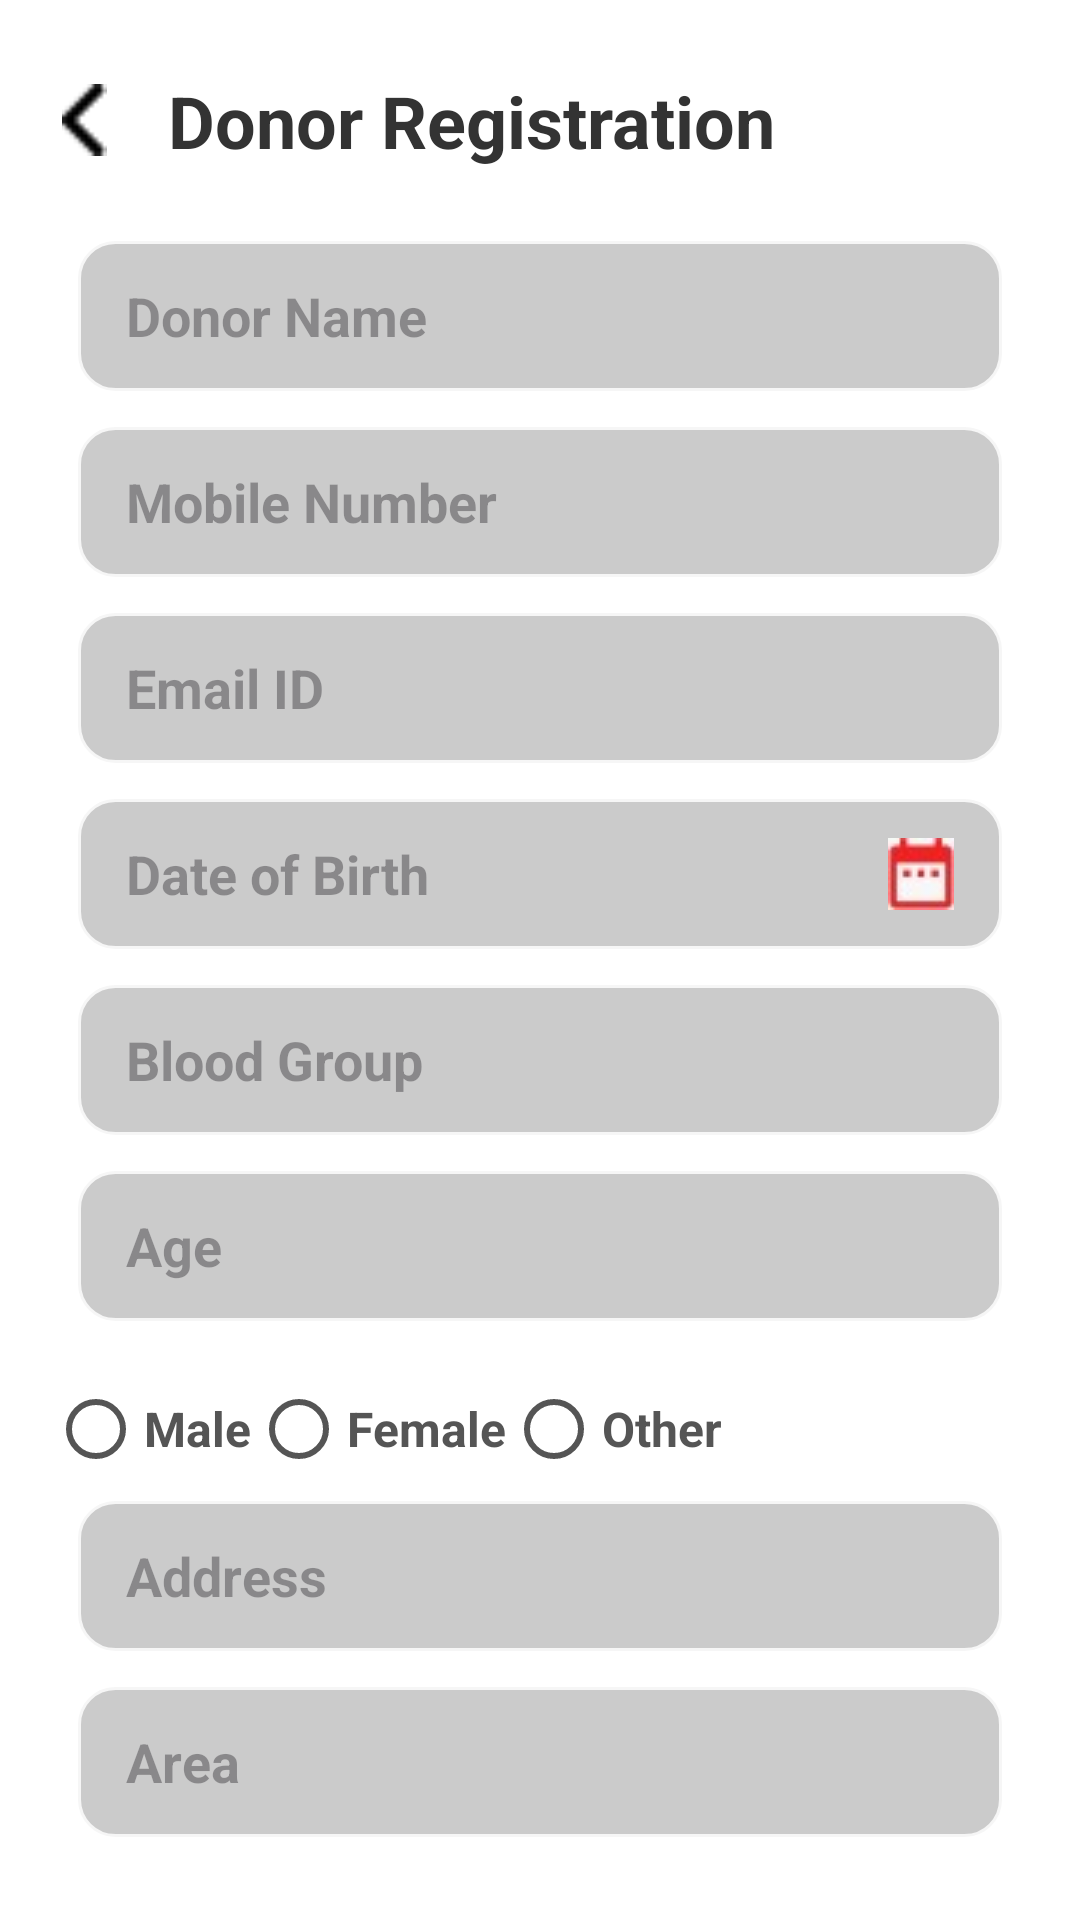

Where icons sit on this 1080 x 1920 app screen, as detection(x1, y1, x2, y2):
Back: detection(62, 84, 107, 156)
